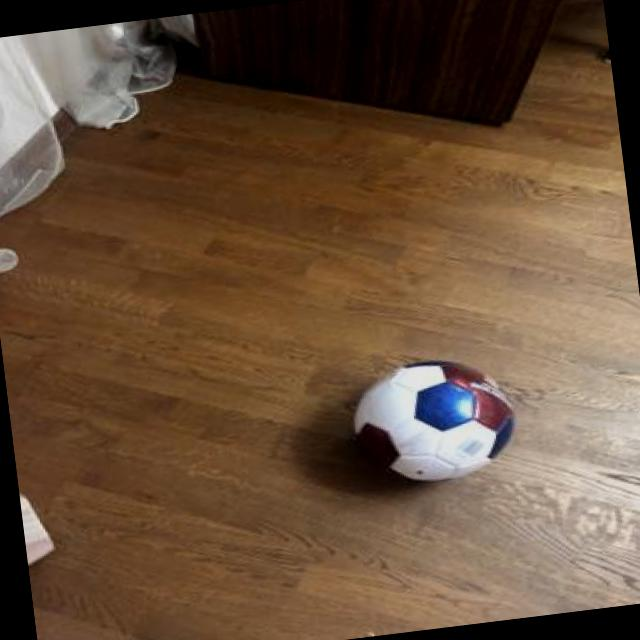Soccer Ball: (349, 348, 522, 488)
